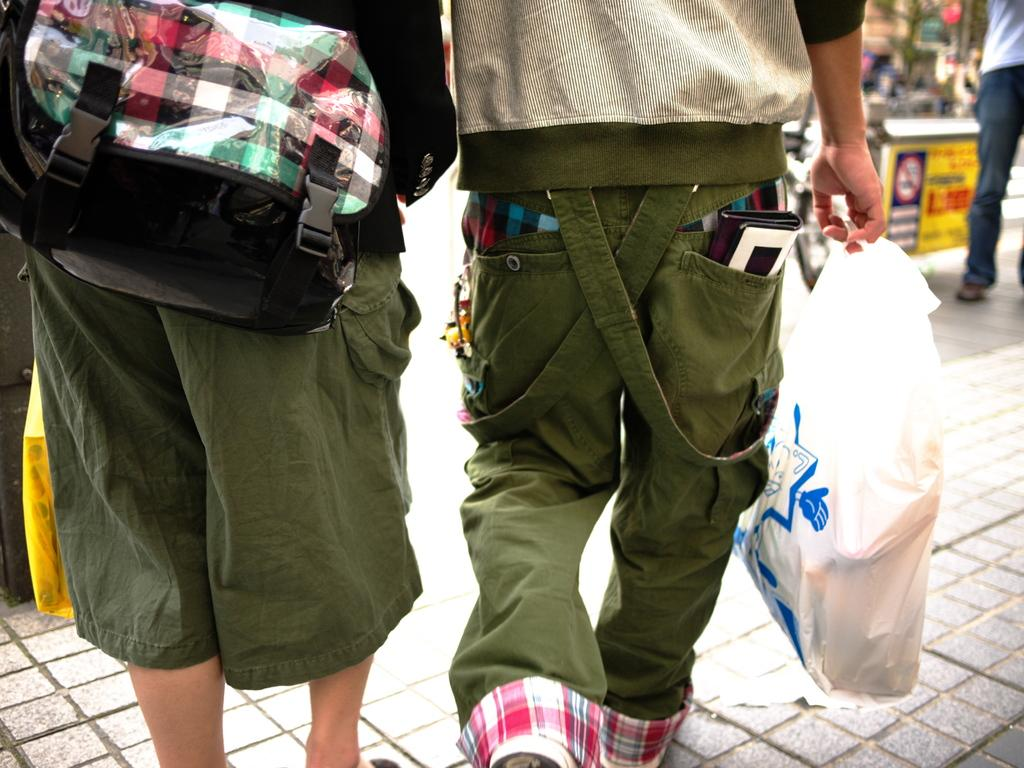Luggage-and-bags: (8, 25, 432, 369)
